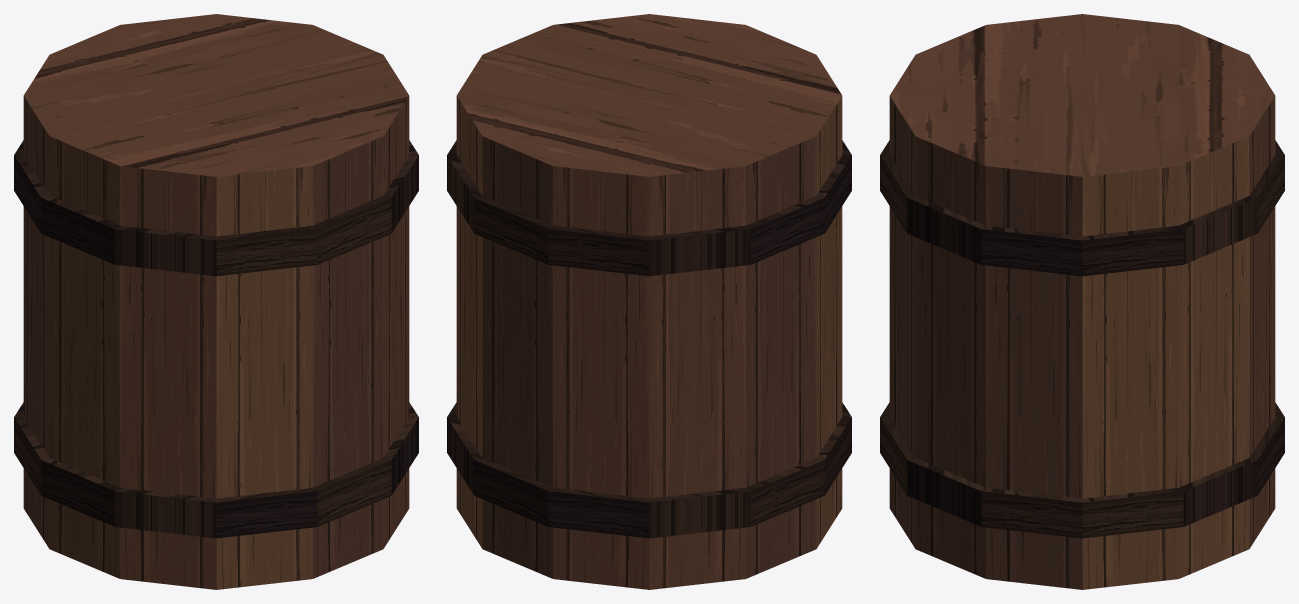
File: barrel.glb
3 views of the same model, side by side, from view 1: azimuth 30°, elevation 25°; view 2: azimuth 150°, elevation 25°; view 3: azimuth 270°, elevation 25° (orthographic).
Visible parts, largest first — view 1: barrel; view 2: barrel; view 3: barrel.
Boxes of the visible parts, box(x1,y1,x2,y2) form: barrel: box(14, 14, 418, 589); barrel: box(447, 14, 851, 589); barrel: box(880, 14, 1284, 589).
Bounding box in the file's own units: 0.462 × 0.52 × 0.462.
1 material, 1 textured.
